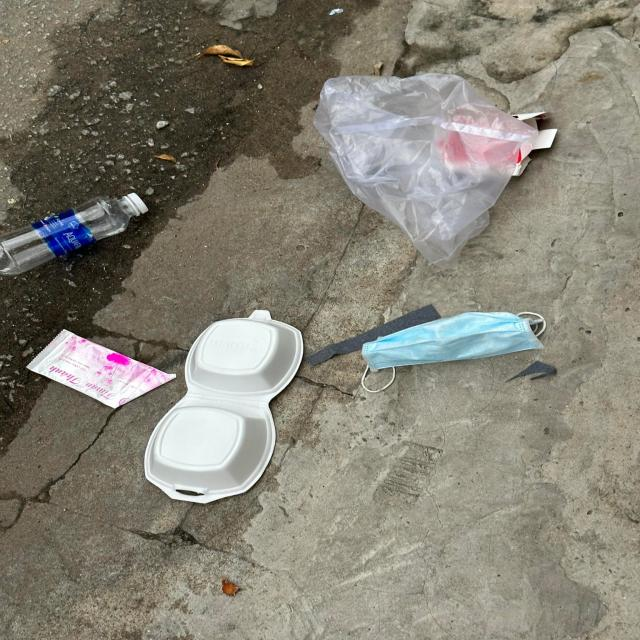bag: (312, 72, 538, 268)
bottle: (0, 192, 148, 277)
foam box: (144, 310, 304, 504)
mask: (361, 312, 545, 392)
packet: (26, 328, 176, 408)
